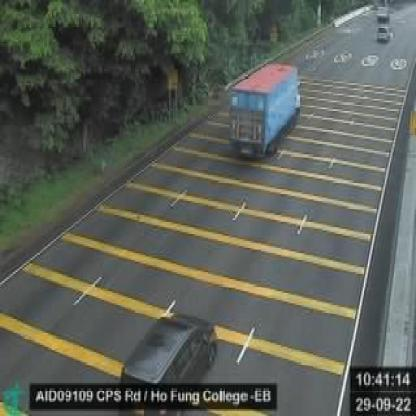Car: (113, 312, 225, 414), (376, 24, 391, 47)
Truck: (225, 59, 303, 156)
